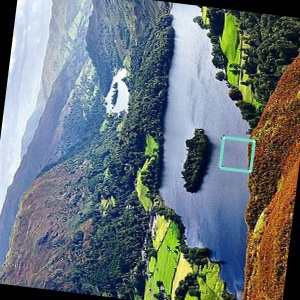square: (216, 134, 257, 175)
